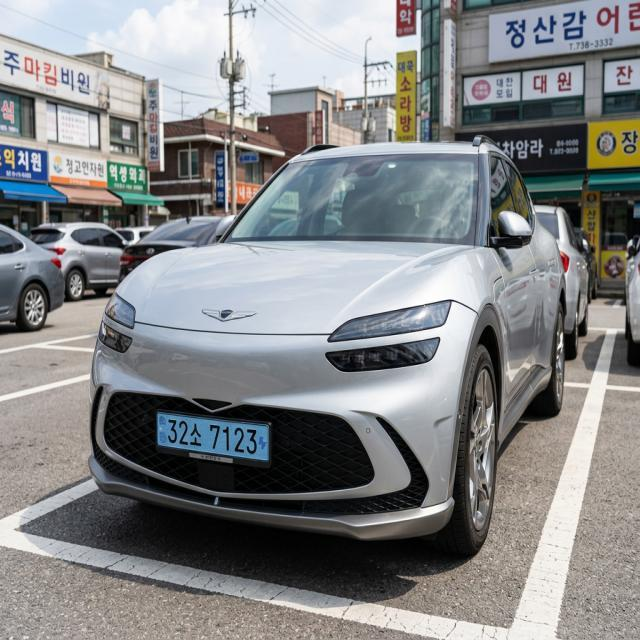car: (145, 405, 283, 475)
carev: (254, 422, 272, 463), (157, 411, 167, 454)
